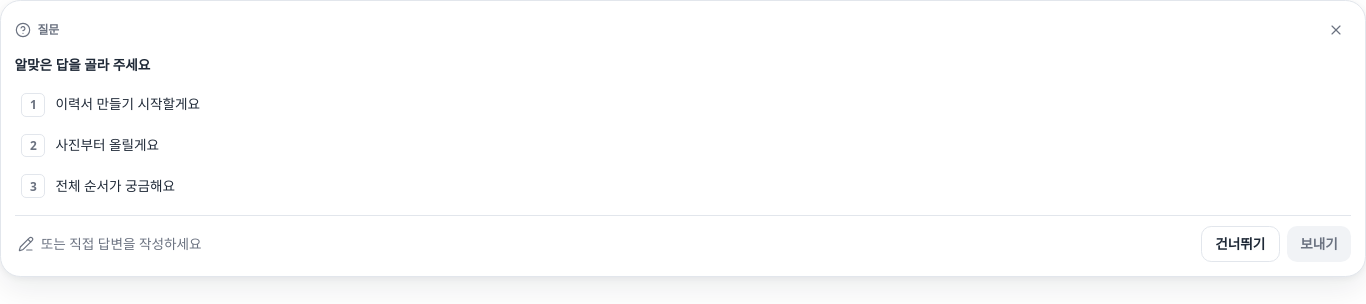
Test: QuestionCard › 같은 선택지를 한 번 더 누르면 선택이 풀려 보낼 수 없다
Click the radio button labelled "사진부터 올릴게요": (90, 145) [21,134,159,157]
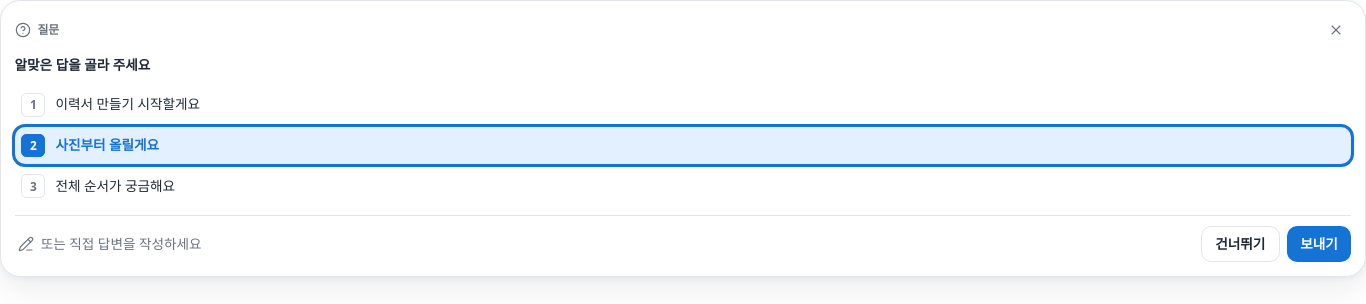
Result: the button with aria-label "고른 답 보내기" is enabled at [1287,226,1351,262]
Click the radio button labelled "사진부터 올릴게요": (107, 145) [15,127,1351,164]
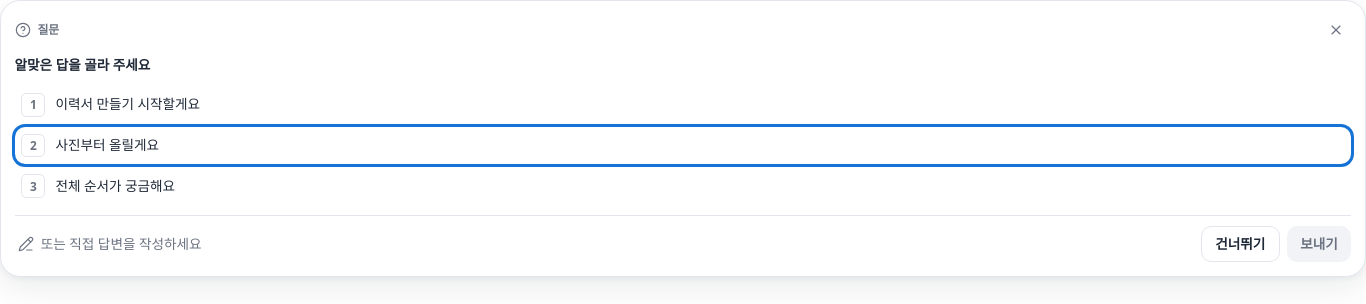
Result: the button with aria-label "고른 답 보내기" is disabled at [1287,226,1351,262]
